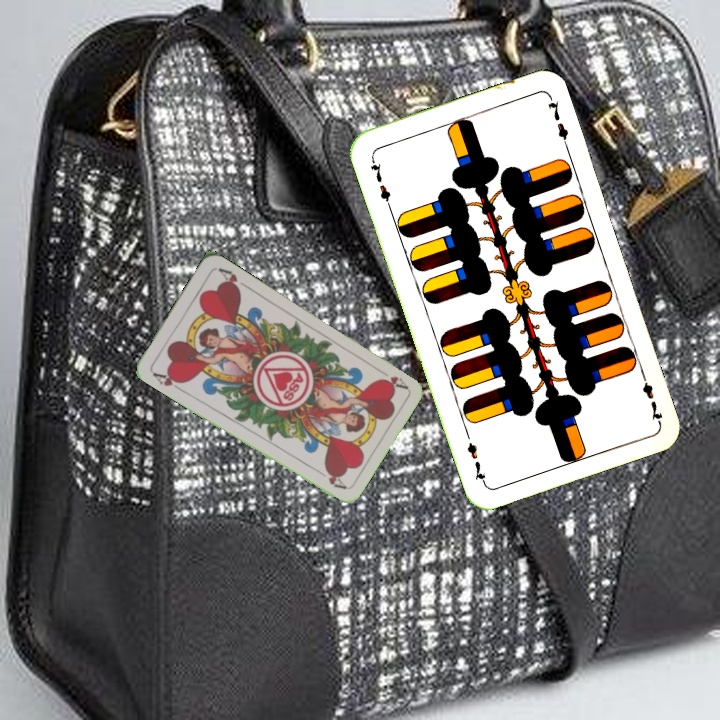E7: (637, 367, 666, 425), (367, 153, 394, 211)
HA: (148, 368, 187, 394), (373, 365, 410, 392)
